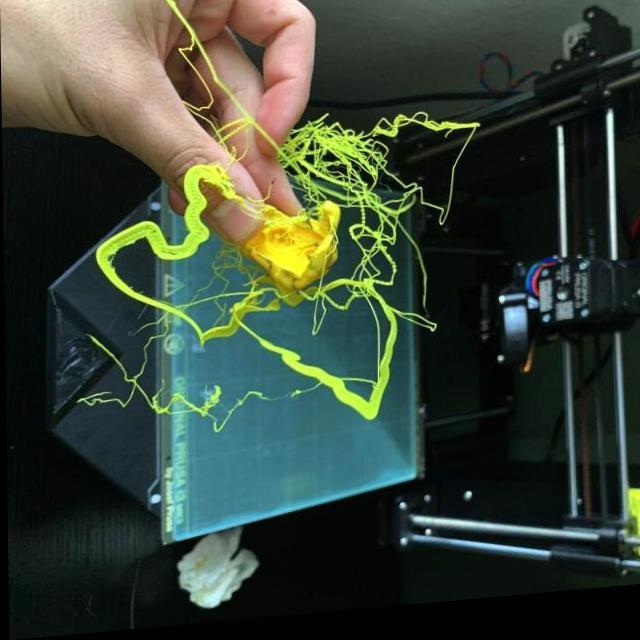spaghetti: (281, 124, 384, 212), (342, 200, 406, 298), (150, 386, 243, 438), (378, 116, 480, 152), (211, 249, 270, 311), (297, 289, 355, 335), (110, 372, 148, 409)
